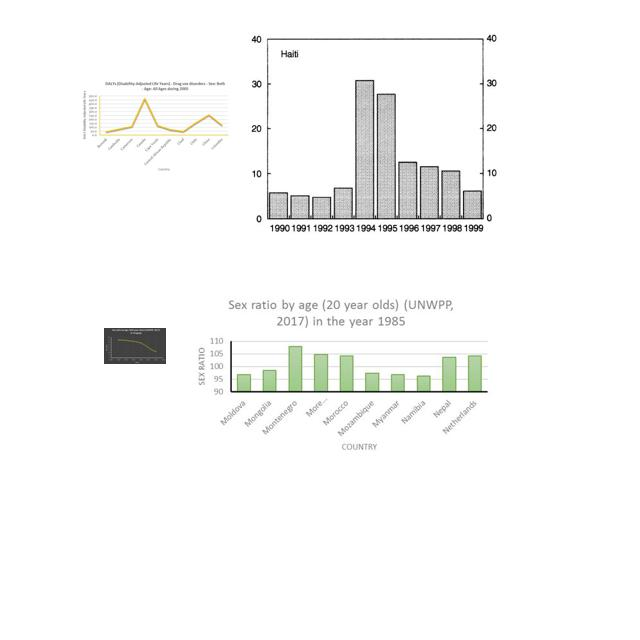Graph: (248, 29, 504, 236), (191, 293, 494, 457), (80, 79, 231, 174), (104, 328, 166, 364)
